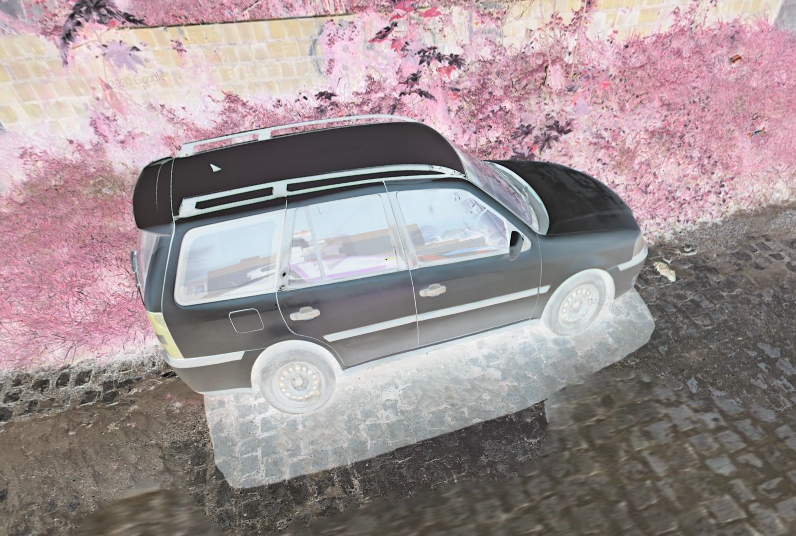car: (127, 107, 651, 416)
